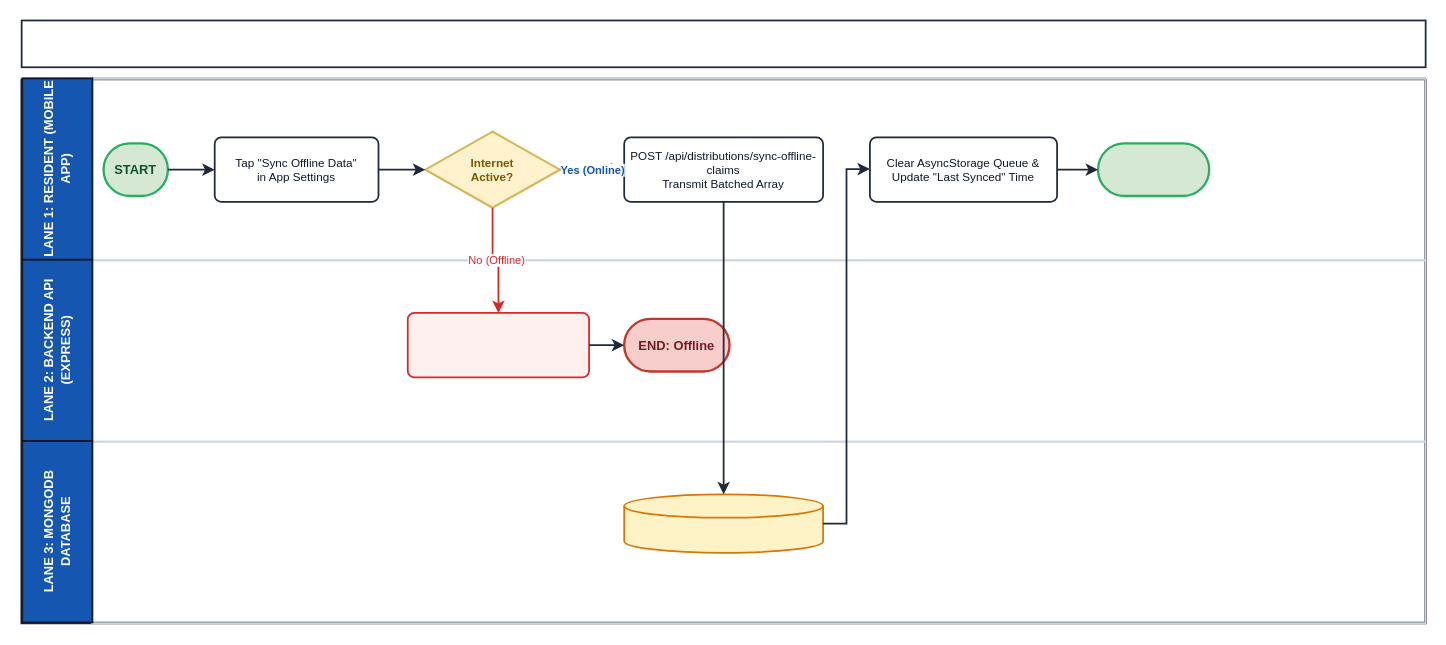
Some shapes in this 1446 by 645 pixel diagram are drawn without their labels. The shapes that lost their labels are listed below. From the top down, each one's centre as x and y in pixels, then its label:
pixel 723 43: Process Flow [PF-R11]: Sync Offline Data Module (Linked Use Case: UC-R11)
pixel 1153 169: END (Synced)
pixel 497 345: Show "No Internet Connection" Preserve Local Queue
pixel 723 523: MongoDB: Insert Claim Records & Update Household History
